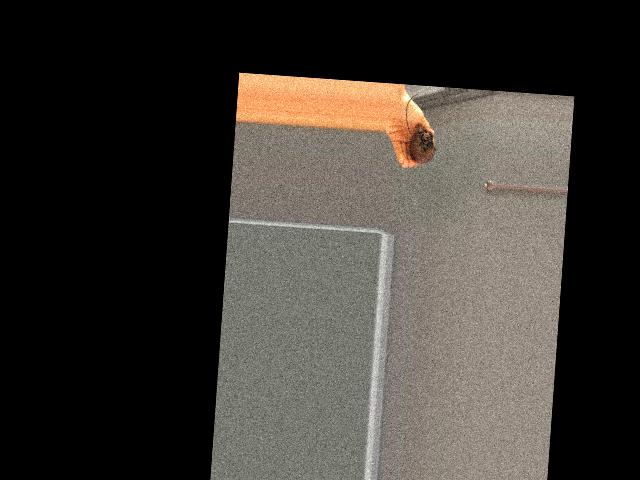beet: (401, 93, 438, 172)
